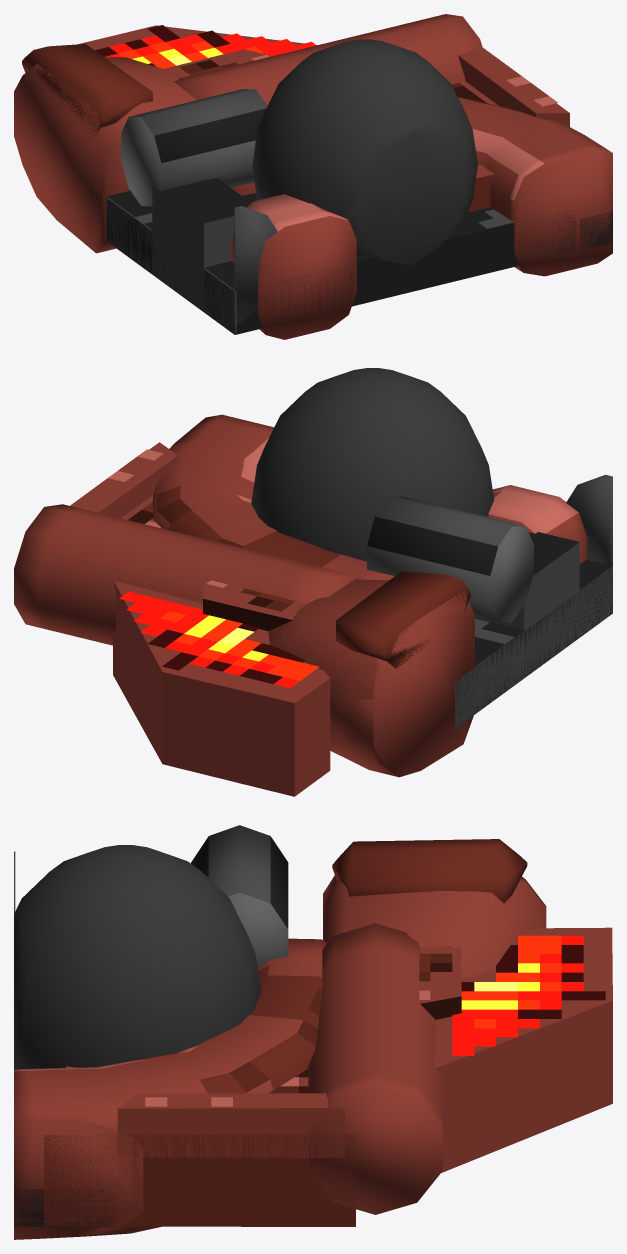
The model's file is newsht-7.glb.
3 views of the same model, one above another, from view 1: azimuth 30°, elevation 25°; view 2: azimuth 150°, elevation 25°; view 3: azimuth 270°, elevation 25° (orthographic). The views are drawn at different scales.
Parts seen in each view (by area): view 1: newsht-7; view 2: newsht-7; view 3: newsht-7.
Boxes of the visible parts, x1,y1,x2,y2 form: newsht-7: (14, 14, 612, 339); newsht-7: (14, 368, 612, 796); newsht-7: (14, 825, 612, 1239).
Size of the model in its own units: 2 by 1.18 by 2.28.
